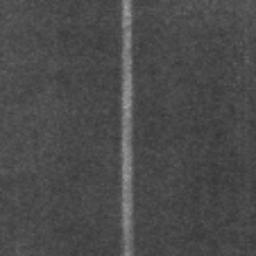Bright scratch: (121, 0, 134, 256)
